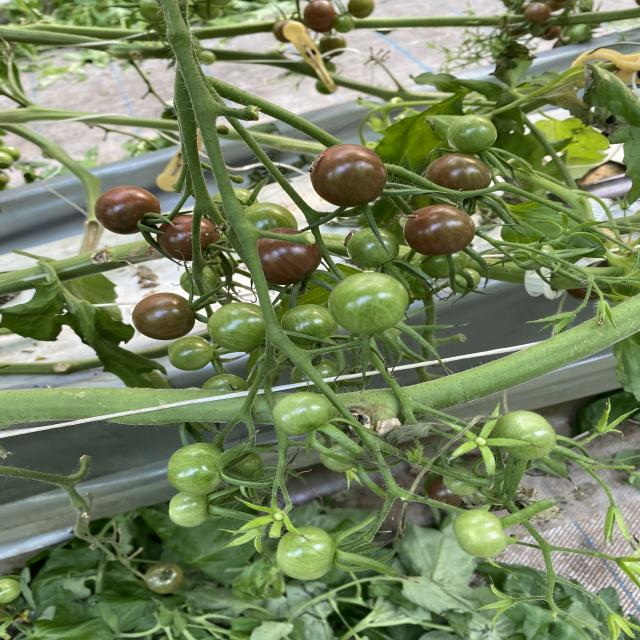yesil: (170, 281, 608, 594)
